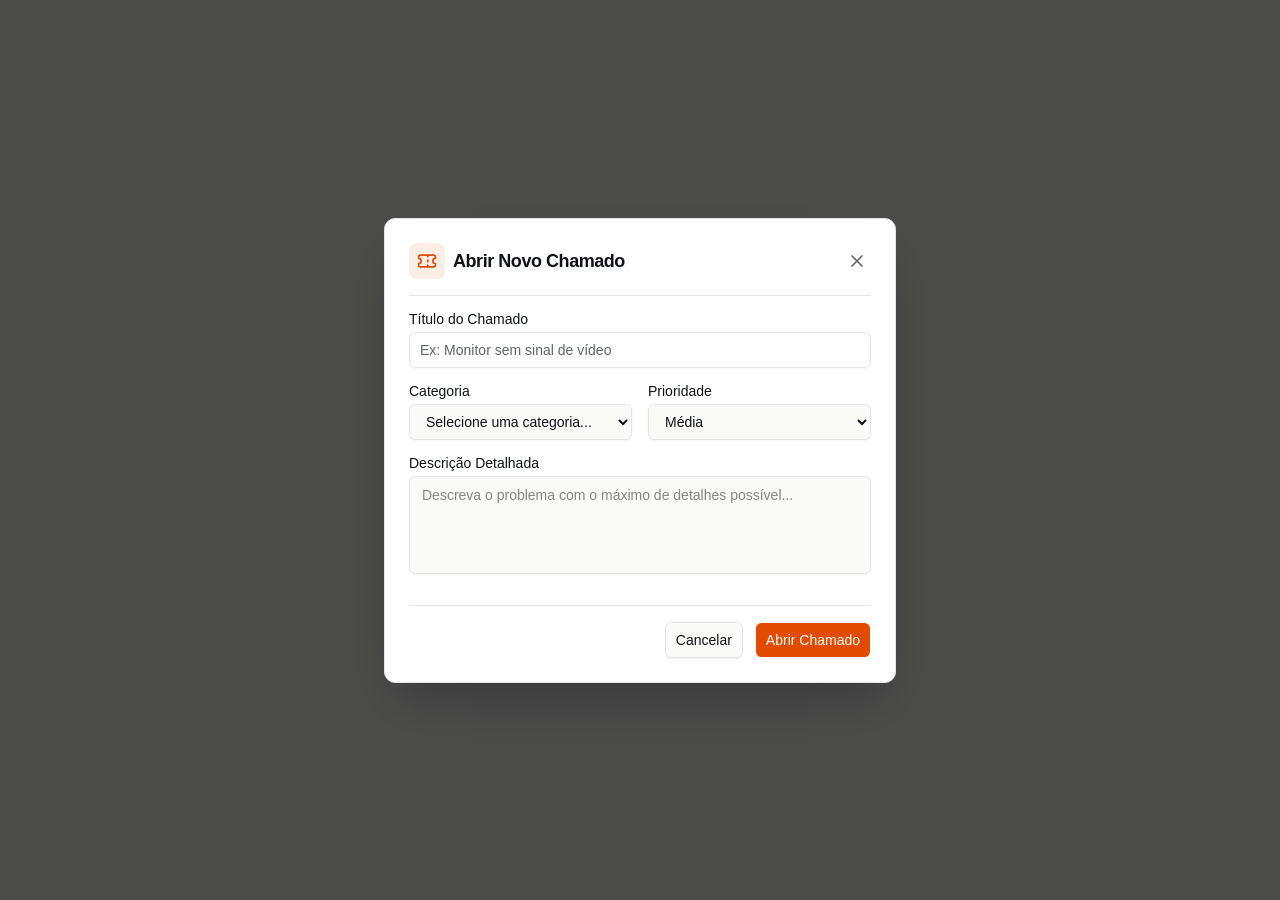
Test: CreateTicketModal › deve exibir erros de validação se os campos obrigatórios estiverem vazios
Click the button "Abrir Chamado".
click(813, 640)  # box x1=755 y1=622 x2=871 y2=658
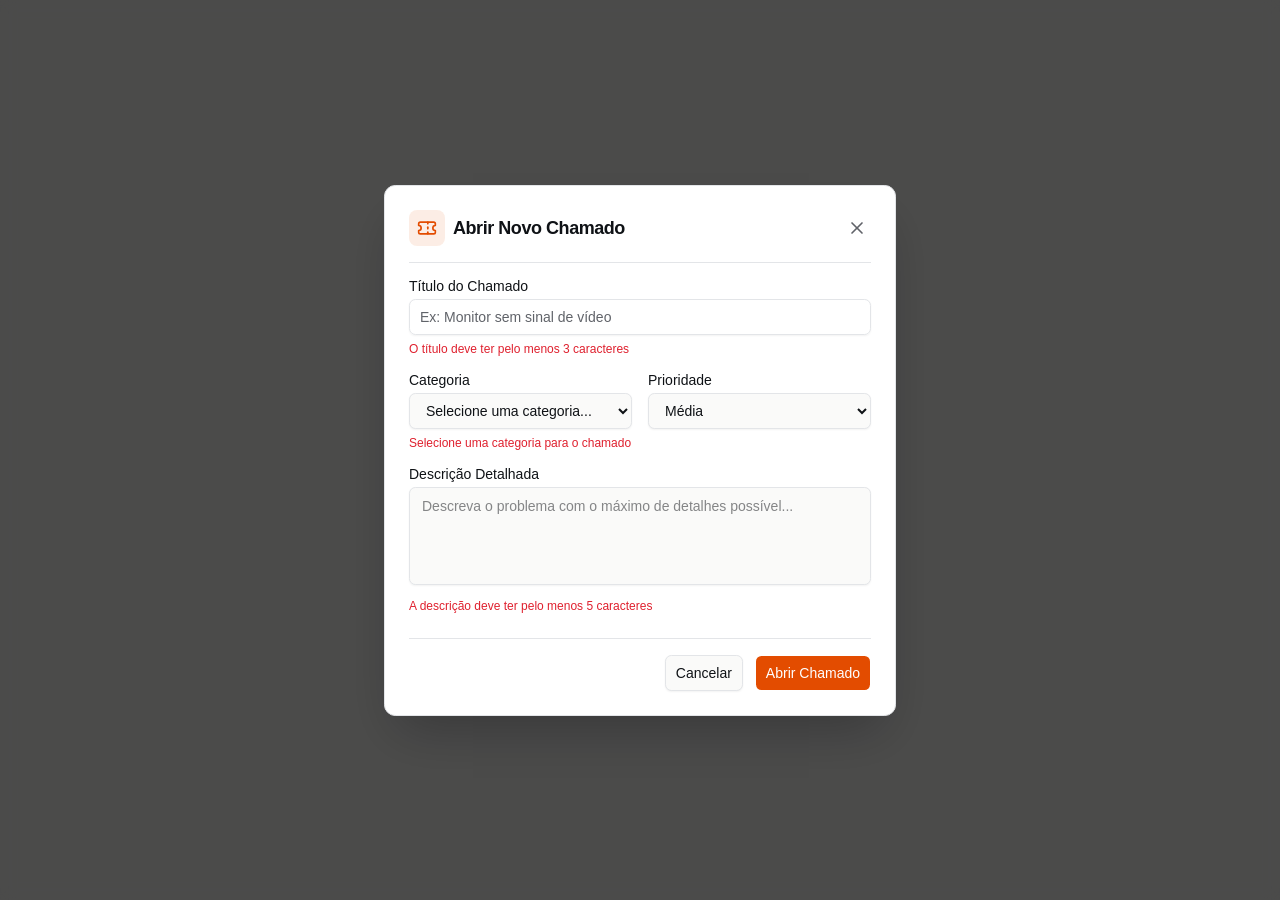
Result: the text "O título deve ter pelo menos 3 caracteres" is shown at x1=409 y1=342 x2=629 y2=356
Result: the text "A descrição deve ter pelo menos 5 caracteres" is shown at x1=409 y1=598 x2=652 y2=612
Result: the text "Selecione uma categoria para o chamado" is shown at x1=409 y1=434 x2=632 y2=450
